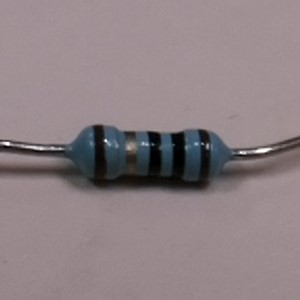black_band: (144, 128, 164, 181), (169, 128, 186, 184)
brown_band: (90, 122, 110, 183), (195, 127, 213, 188)
gold_band: (122, 127, 140, 179)
